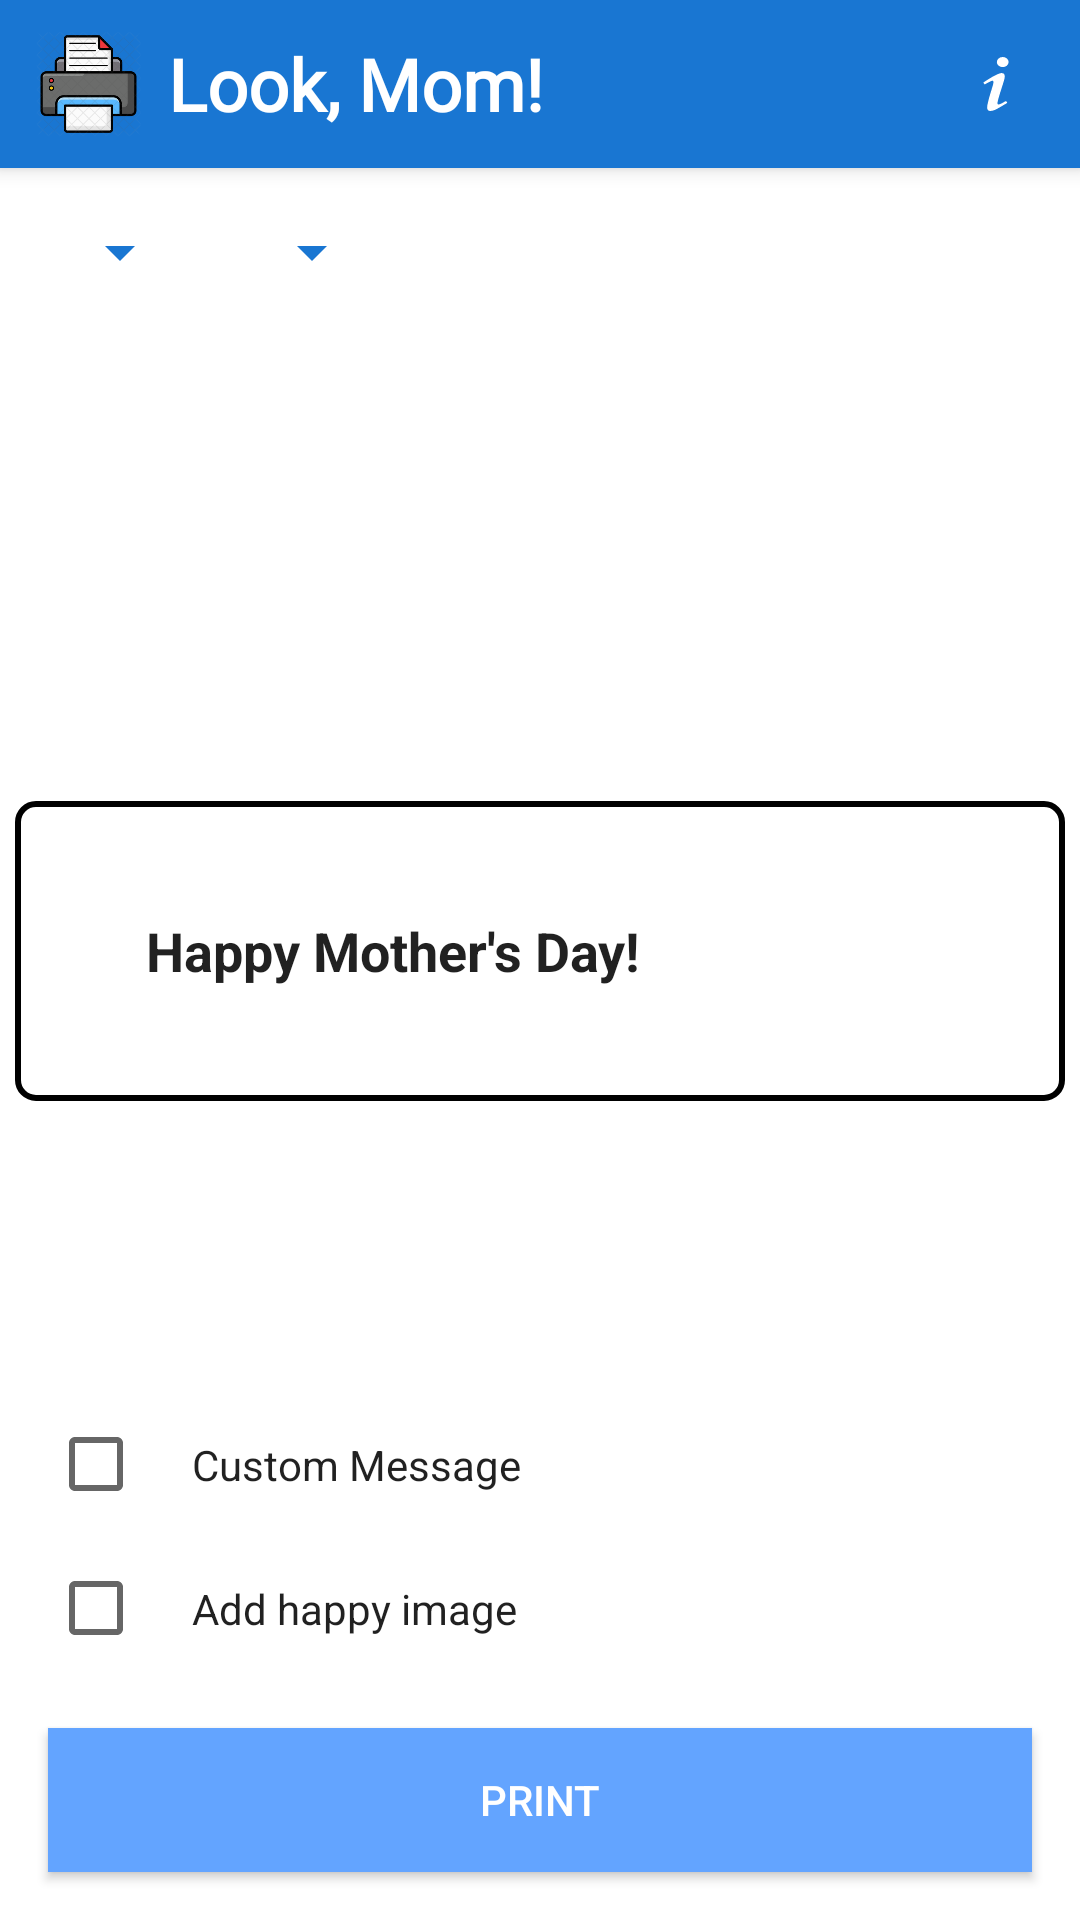

Named icons in this screenshot (1080w x 1920h) and their centers, point (x, y):
info: point (996, 84)
printer: point (88, 84)
